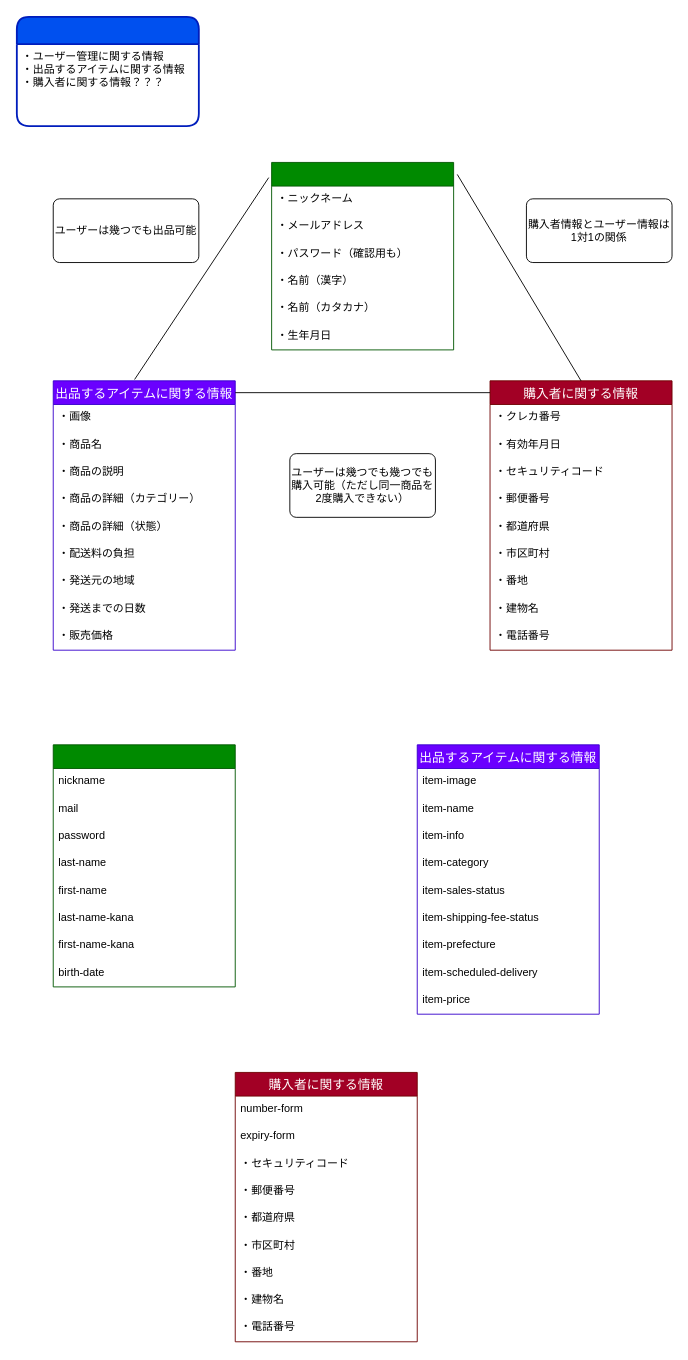
The diagram is 688 pixels wide and 1360 high, and some of its shapes have lost their labels. Here are the shapes that lost their labels. From the top down, the box of each, then its label:
(15, 15, 199, 126): Entity
(271, 162, 454, 350): ユーザー管理に関する情報
(52, 744, 235, 987): Users Table
